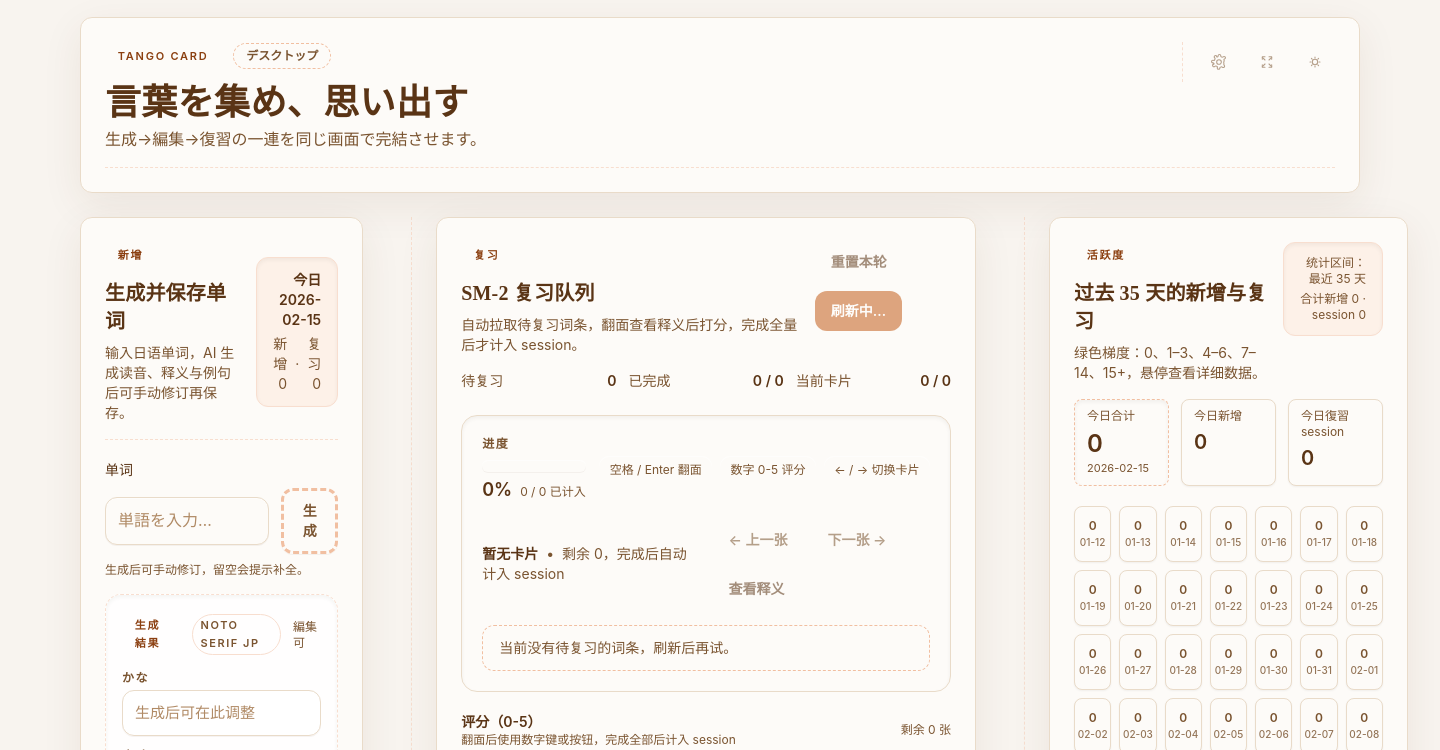
新增词条流程 › 生成内容后填充表单字段
Type "勉強" into the field labelled "单词". click: (187, 521)
box: [105,497,270,545]
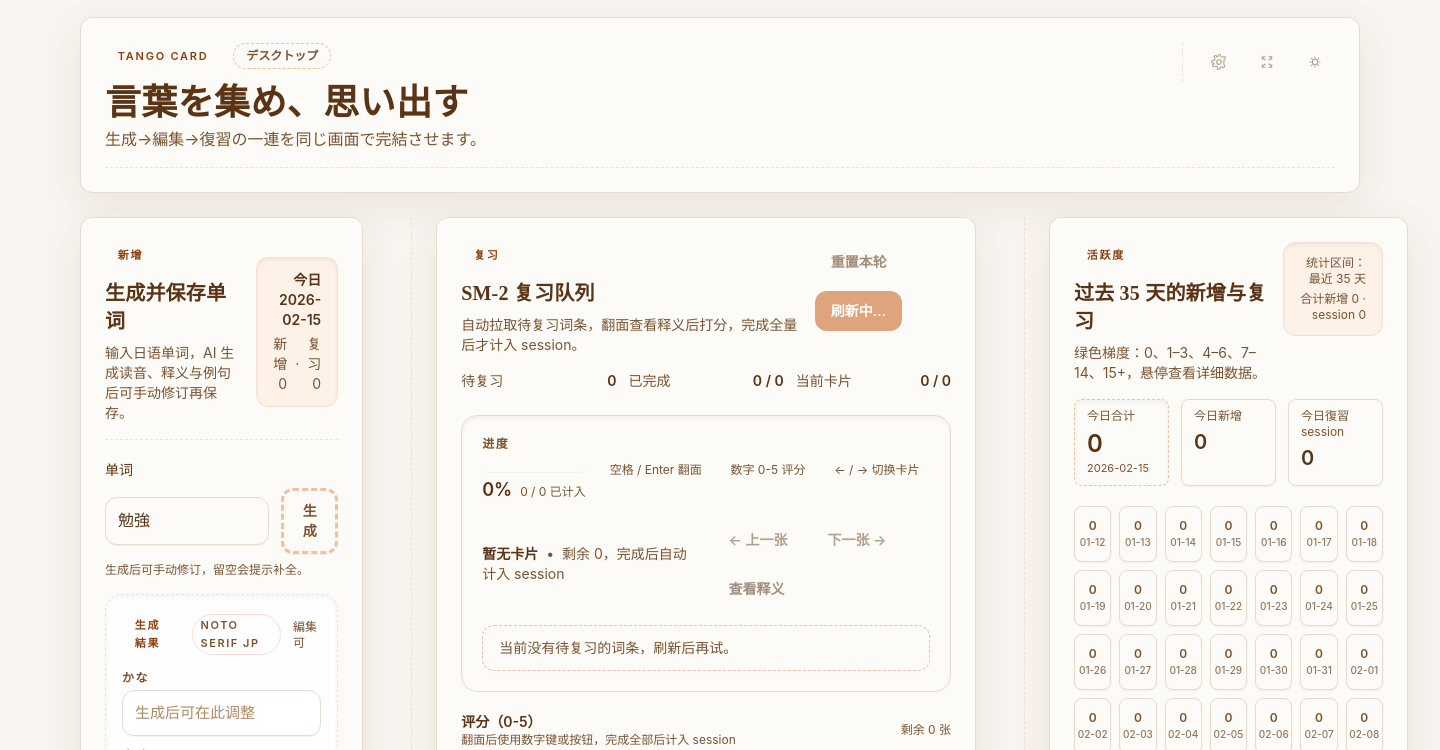
Click the button "生成". click: (310, 521)
box: [282,488,338,554]
(page scrolled)
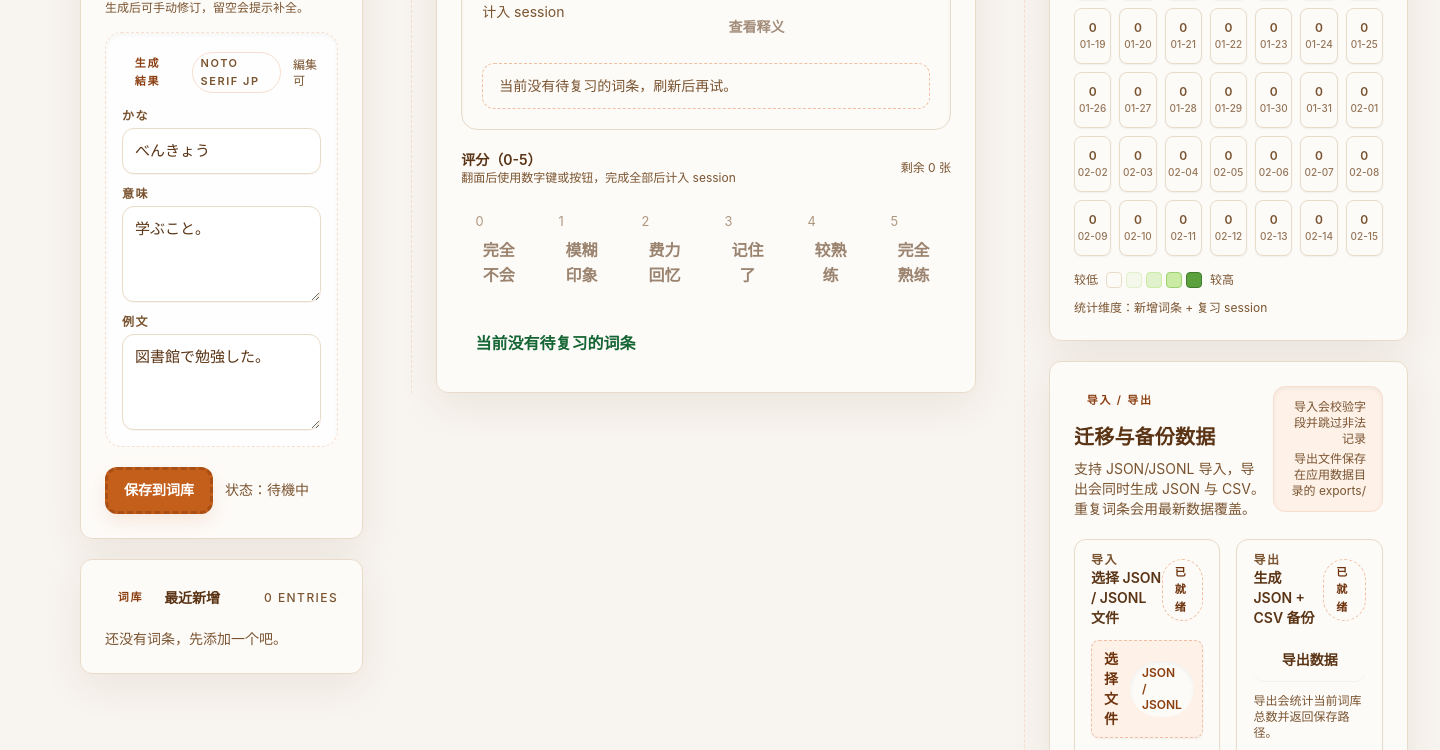
Check: the field named "读音" holds "べんきょう", box [122,128,321,174]
Check: the text box named "释义" holds "学ぶこと。", box [122,206,321,302]
Check: the text box named "例句" holds "図書館で勉強した。", box [122,334,321,430]
